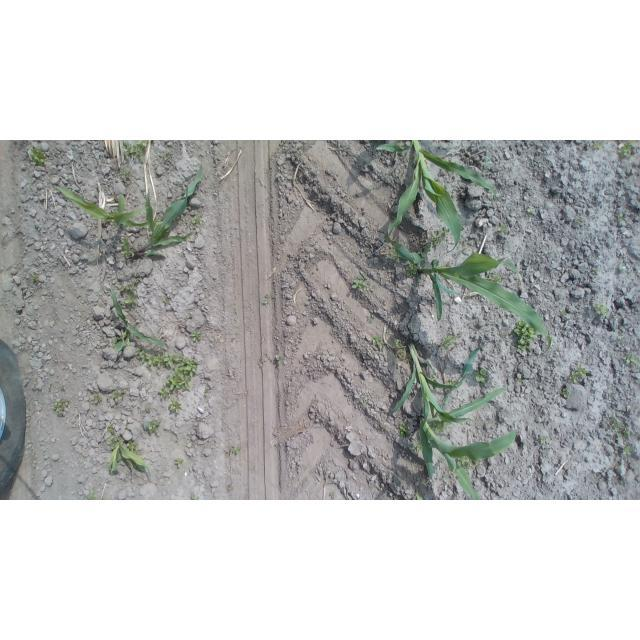Maize: (385, 228, 553, 356), (375, 141, 497, 252), (390, 341, 485, 483), (418, 384, 518, 500), (134, 166, 203, 259), (44, 183, 163, 228), (107, 281, 168, 351), (108, 439, 146, 474), (407, 485, 423, 500)
Weeds: (159, 358, 198, 400), (415, 228, 450, 261), (514, 319, 541, 354), (135, 348, 182, 368), (117, 277, 141, 307), (125, 141, 148, 164), (456, 456, 480, 475), (568, 363, 589, 383), (392, 339, 410, 362), (28, 147, 49, 166), (119, 237, 135, 260), (351, 273, 369, 292), (439, 334, 457, 353), (51, 398, 71, 415), (146, 418, 163, 435), (619, 141, 636, 158), (593, 300, 610, 316), (168, 396, 183, 414), (106, 427, 117, 449), (112, 389, 128, 404), (474, 368, 489, 384), (373, 335, 388, 351), (623, 353, 640, 367), (82, 488, 97, 501), (487, 273, 502, 286), (405, 262, 417, 277), (400, 422, 410, 439), (388, 247, 399, 261), (127, 440, 137, 455), (190, 329, 202, 341), (192, 211, 201, 227), (433, 422, 444, 434), (612, 419, 622, 432), (261, 294, 271, 307), (622, 444, 632, 456), (414, 439, 422, 453), (524, 204, 534, 215), (558, 389, 568, 400), (618, 426, 629, 436), (111, 336, 121, 347), (275, 354, 284, 366), (120, 167, 129, 179), (593, 141, 605, 150), (497, 223, 507, 233), (228, 446, 241, 453), (94, 394, 103, 404), (176, 458, 184, 468), (483, 157, 489, 170), (445, 378, 456, 385), (540, 436, 549, 444), (366, 316, 374, 324), (33, 272, 39, 282), (163, 296, 170, 304), (163, 152, 169, 160), (576, 217, 584, 223), (560, 310, 566, 317), (380, 424, 386, 431), (592, 268, 598, 275), (329, 492, 335, 499), (516, 377, 521, 385), (145, 405, 151, 411), (612, 391, 618, 397), (617, 216, 624, 221), (617, 334, 624, 339), (191, 495, 198, 500), (619, 480, 625, 485), (362, 397, 367, 403), (443, 476, 449, 481), (226, 486, 232, 491), (204, 390, 208, 397), (96, 240, 101, 245), (1, 240, 6, 245)
